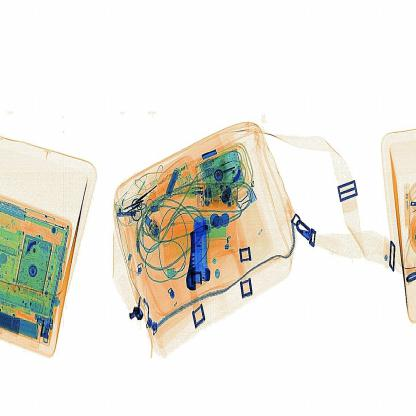pliers: (183, 209, 218, 292)
